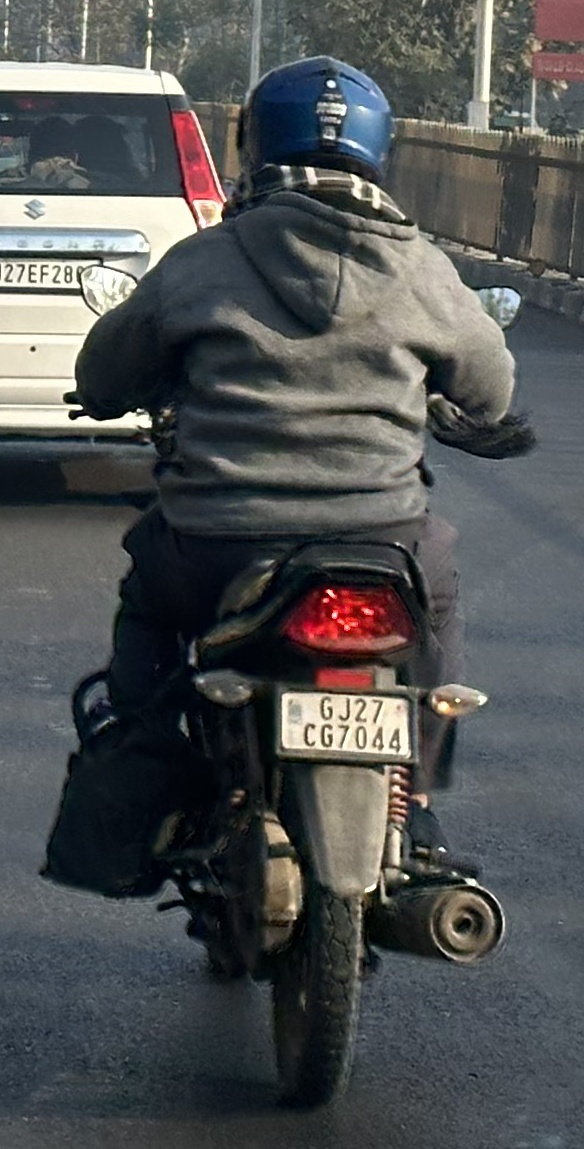BikeWithRider: (27, 45, 548, 1126)
Helmet: (213, 47, 416, 227)
